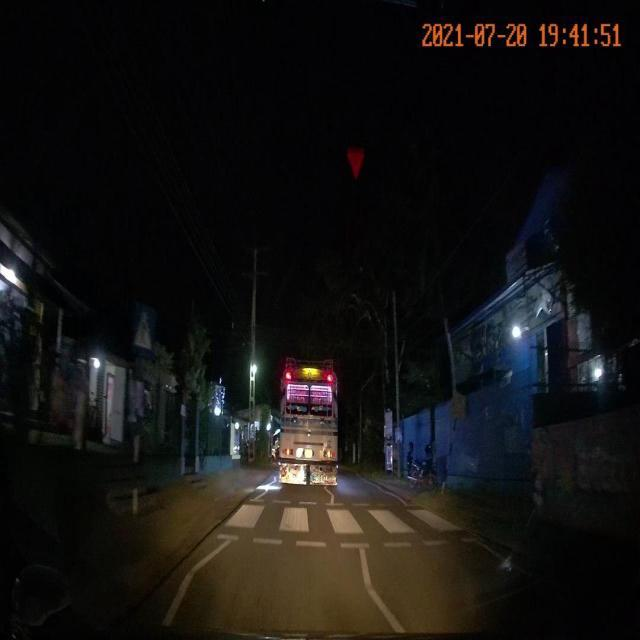Crosswalk: (207, 495, 468, 554)
